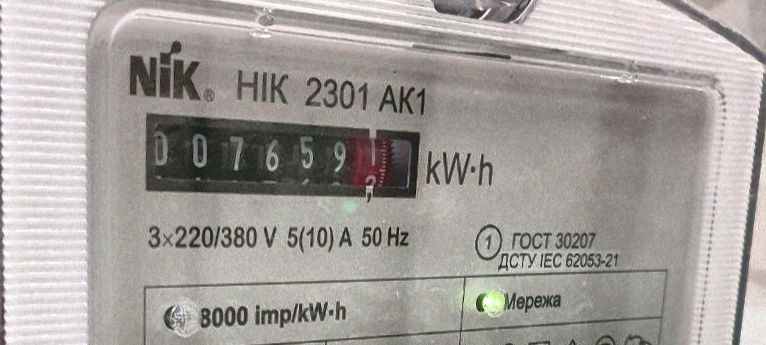0: (186, 129, 211, 170), (147, 127, 171, 168)
1: (364, 136, 381, 170)
5: (295, 133, 316, 171)
6: (260, 135, 283, 174)
7: (225, 133, 245, 173)
9: (330, 138, 348, 175)
screen: (134, 97, 430, 224)
